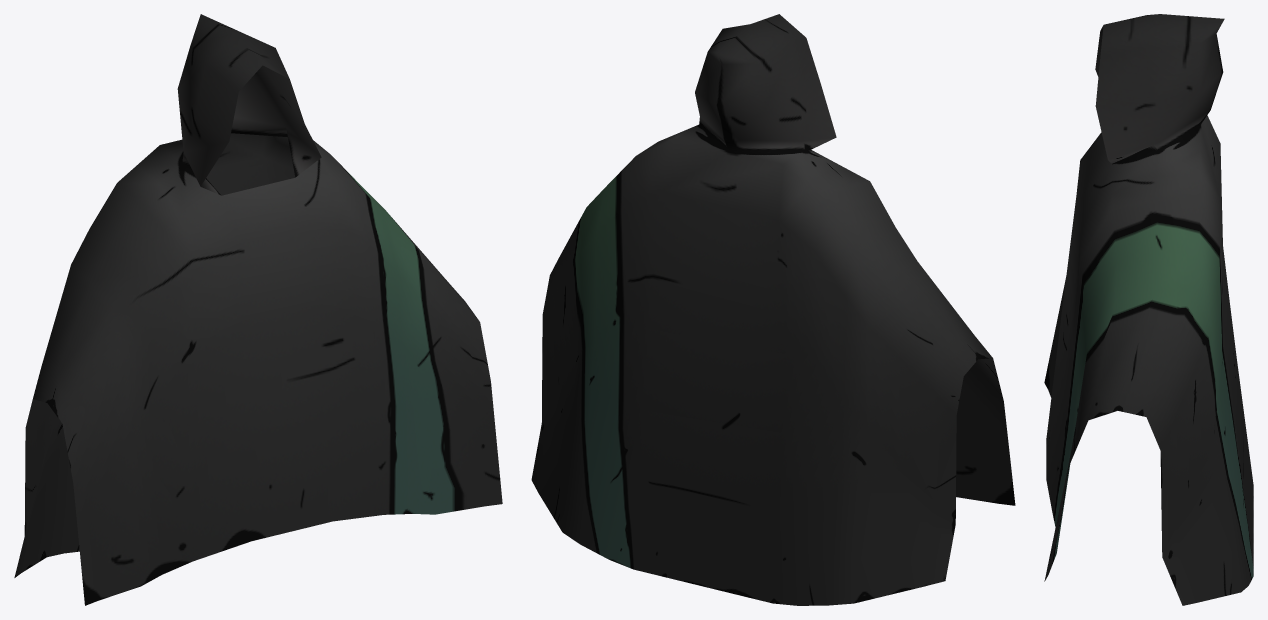
The model's file is mod_gear_chest01.fbx.
3 views of the same model, side by side, from view 1: azimuth 30°, elevation 25°; view 2: azimuth 150°, elevation 25°; view 3: azimuth 270°, elevation 25° (orthographic). The views are drawn at different scales.
Parts seen in each view (by area): view 1: mod_gear_chest01; view 2: mod_gear_chest01; view 3: mod_gear_chest01.
Boxes of the visible parts, x1,y1,x2,y2 form: mod_gear_chest01: (14, 14, 502, 605); mod_gear_chest01: (531, 14, 1015, 605); mod_gear_chest01: (1044, 14, 1253, 605).
Size of the model in its own units: 99.26 by 121 by 44.03.
